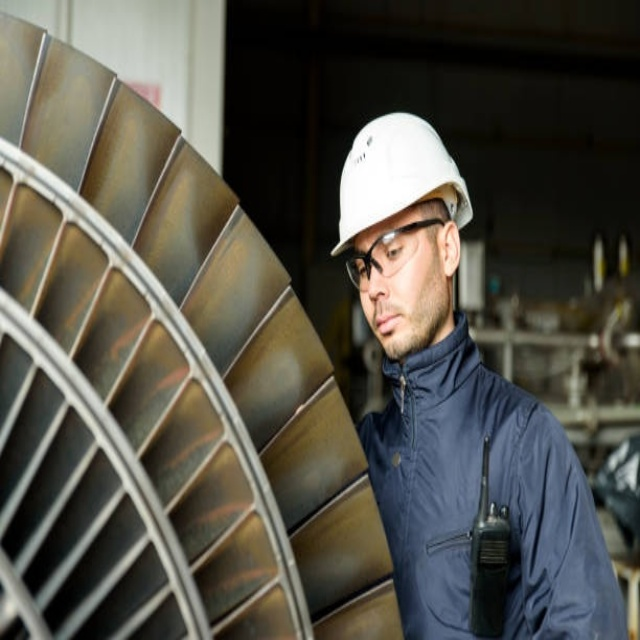Gafas: (343, 217, 446, 290)
Sin_mascara: (371, 300, 408, 350)
